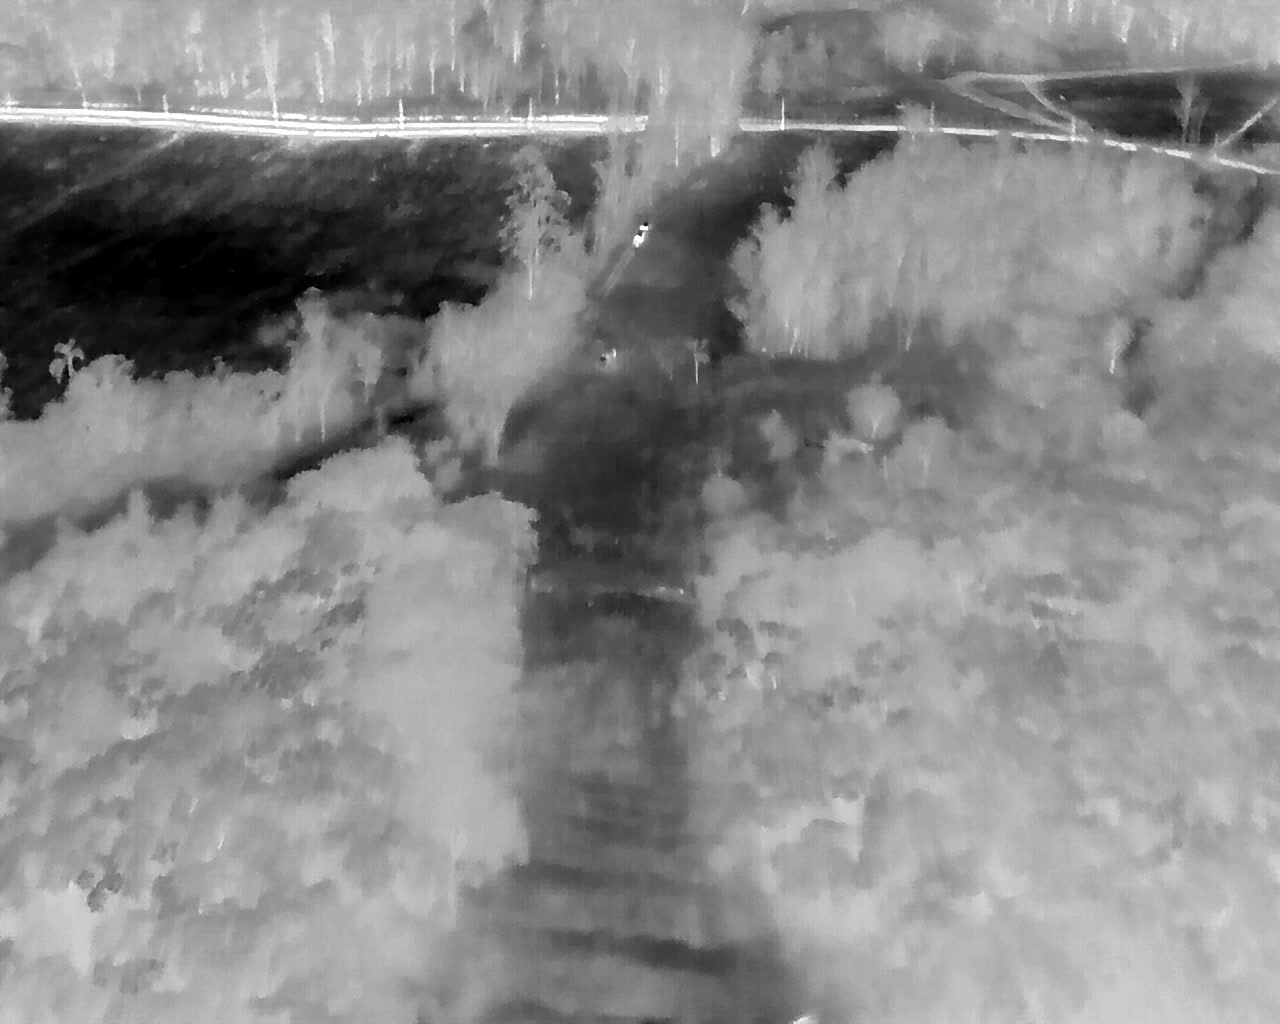car: (1065, 0, 1118, 48)
